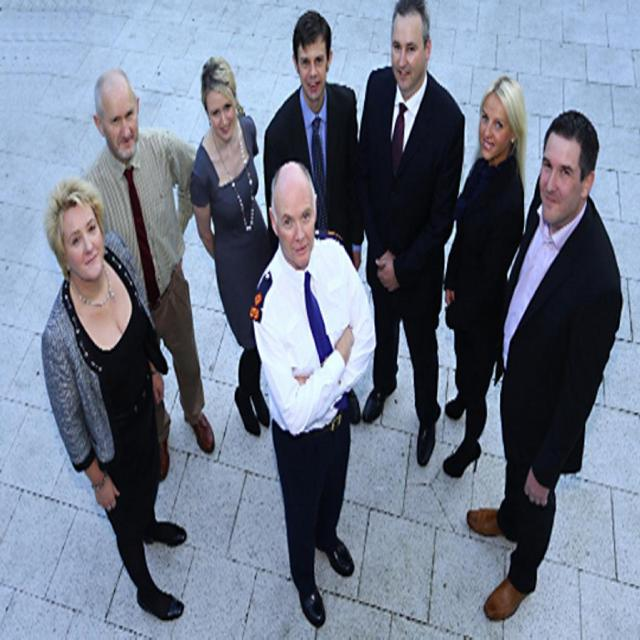nomask: (538, 133, 582, 224), (276, 175, 313, 266), (61, 204, 102, 278), (102, 80, 137, 156), (391, 17, 424, 89), (479, 94, 510, 158), (298, 40, 326, 99), (206, 90, 234, 141)
